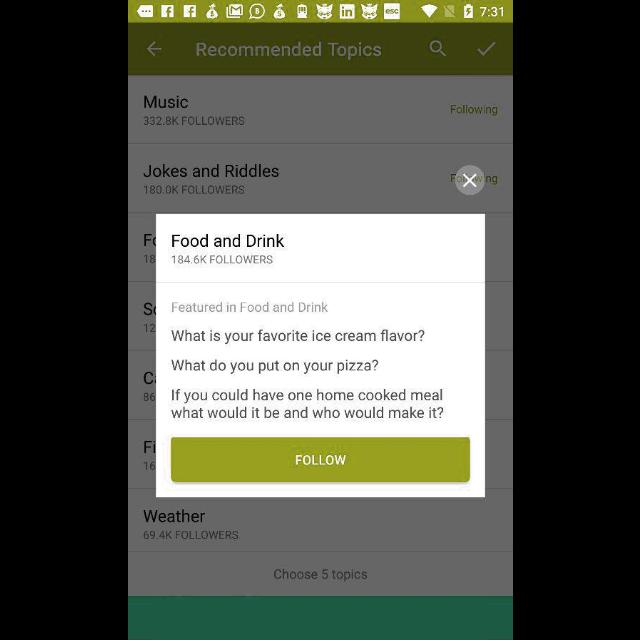icon: (454, 166, 484, 197), (428, 41, 446, 58), (476, 43, 496, 57), (146, 42, 160, 56)
panel: (155, 215, 485, 498)
text: (171, 388, 443, 419), (170, 329, 424, 345), (196, 42, 380, 62), (170, 360, 378, 374), (171, 301, 327, 313), (144, 165, 278, 178), (172, 234, 284, 248), (274, 569, 366, 581), (172, 254, 272, 264), (144, 530, 238, 540), (142, 186, 244, 194), (143, 118, 244, 126), (142, 510, 204, 522), (143, 95, 187, 108), (449, 105, 496, 116)
textbutton: (171, 438, 469, 482)
uppertaskbar: (128, 1, 512, 23)
